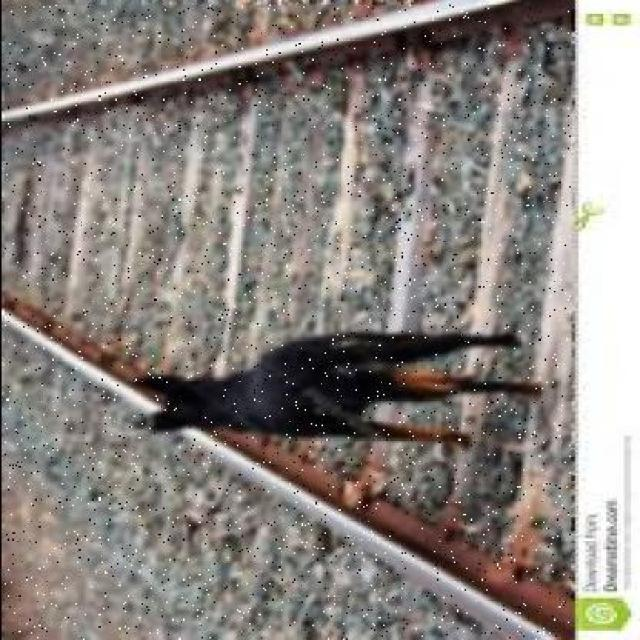rail: (4, 6, 570, 640)
